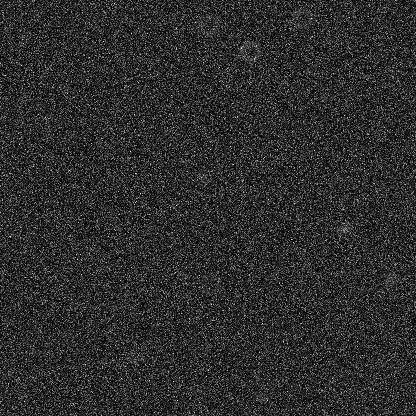Ring: (198, 271, 222, 295), (13, 334, 37, 358), (379, 351, 403, 375), (196, 12, 220, 36), (237, 39, 261, 63), (289, 5, 313, 29)
Spot: (56, 80, 72, 96), (335, 220, 351, 236), (383, 271, 399, 287), (370, 180, 386, 196), (255, 389, 271, 405), (125, 349, 141, 365), (195, 169, 211, 185), (263, 329, 279, 345), (322, 32, 338, 48)
